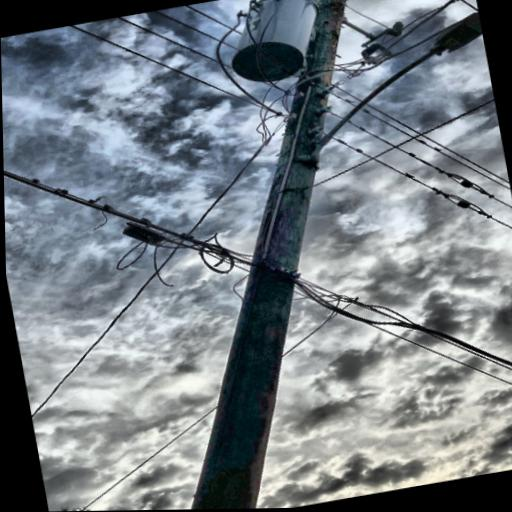pole: (64, 0, 444, 511)
street light: (305, 16, 500, 160)
transformer: (211, 0, 335, 89)
